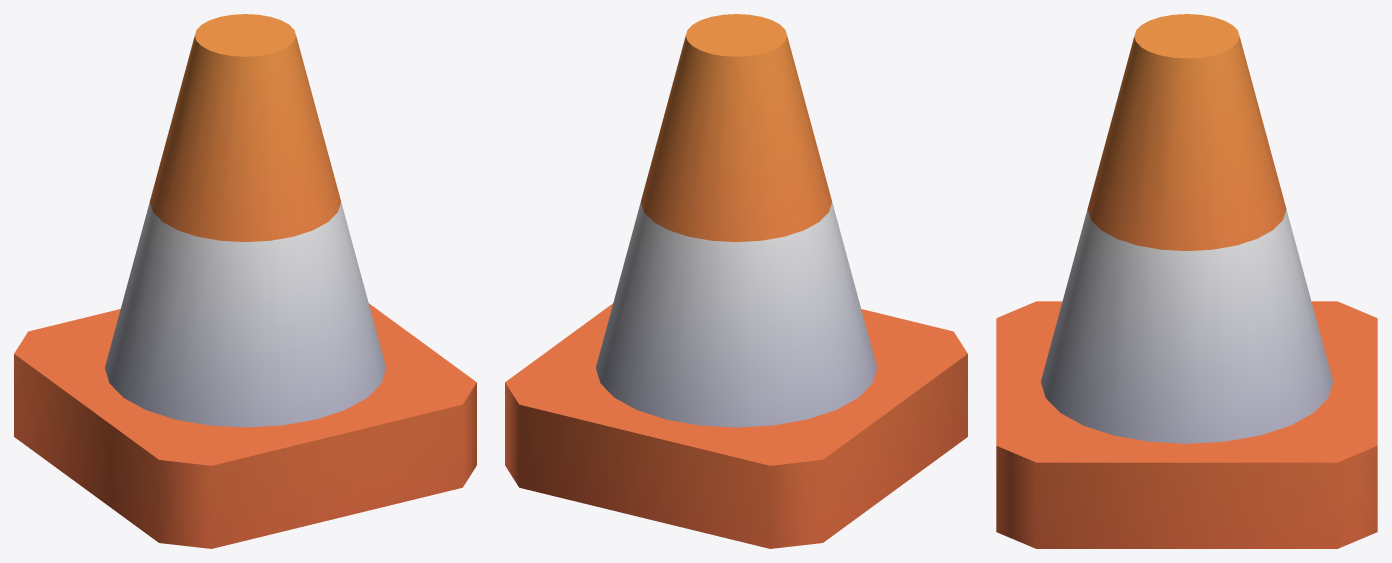
Rendered from traffic_cone.glb.
3 renders of one model, left to right at view 1: azimuth 30°, elevation 25°; view 2: azimuth 150°, elevation 25°; view 3: azimuth 270°, elevation 25°, orthographic. The views are drawn at different scales.
Visible parts, largest first — view 1: cone; view 2: cone; view 3: cone.
Part boxes in pixels (x1,y1,x2,y2): cone: [14, 14, 476, 548]; cone: [505, 14, 967, 548]; cone: [996, 14, 1377, 548].
Size of the model in its own units: 0.4762 by 0.5952 by 0.4762.
Materials: 1 (1 with a texture image).
